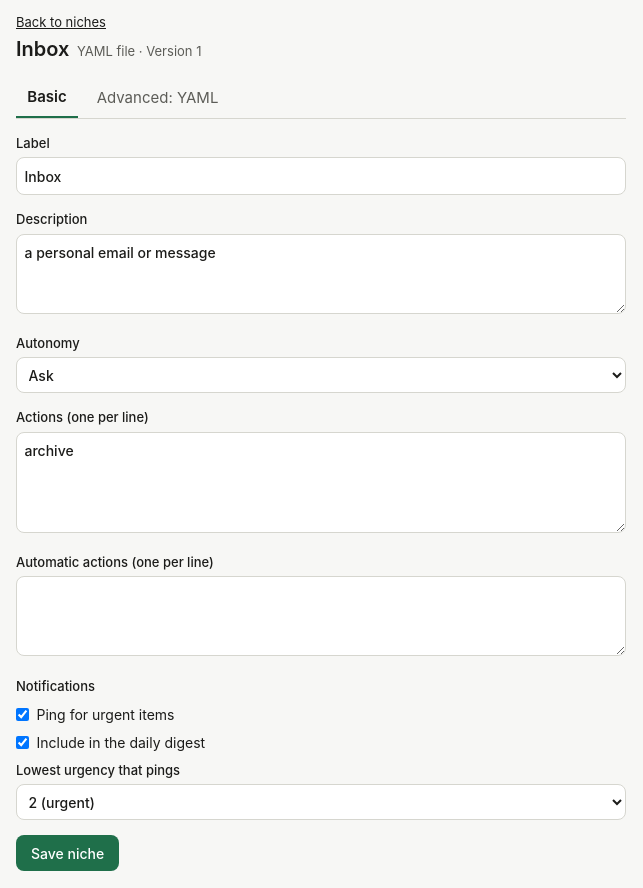
Scenario: NicheEditor › lists every server error above the YAML editor
Expected: the field labelled "Label" is shown, [16,157,626,195]
Click the tab "Advanced: YAML".
click(158, 98)  # box [85,78,230,118]
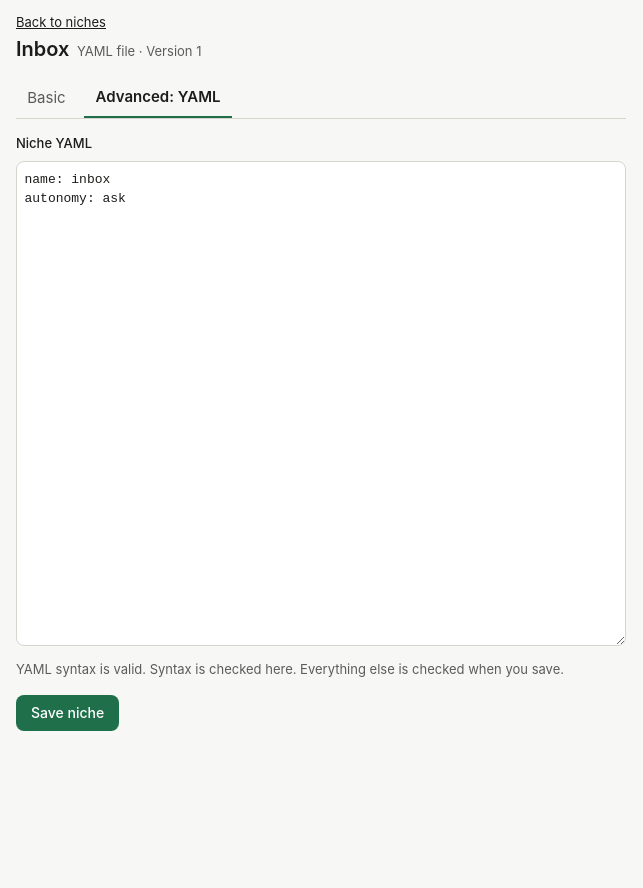
Click the button "Save niche".
click(68, 712)  # box [16,694,119,730]
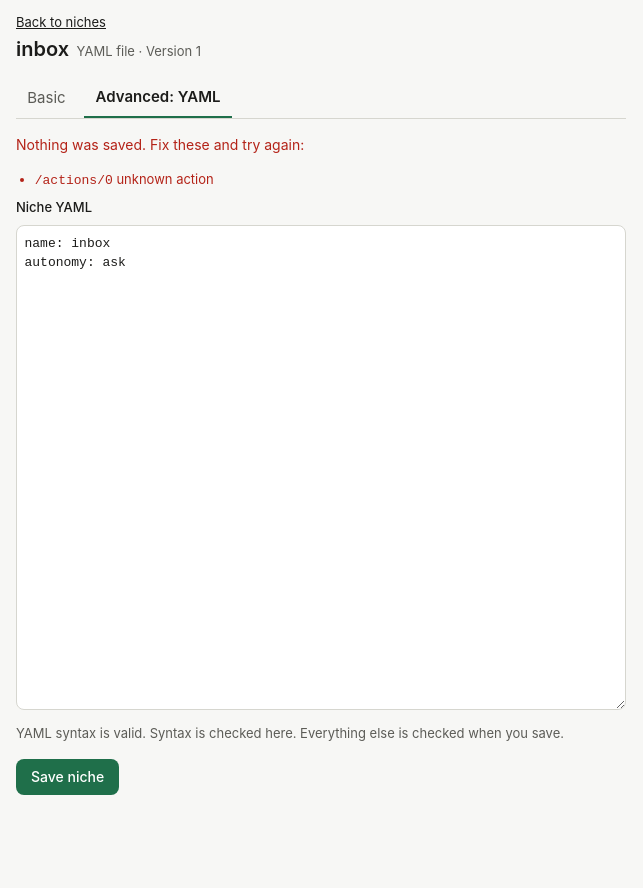
Result: the text "/actions/0" is shown at [35,173,113,188]
Result: the list item "/actions/0 unknown action" is shown at [35,171,214,188]
